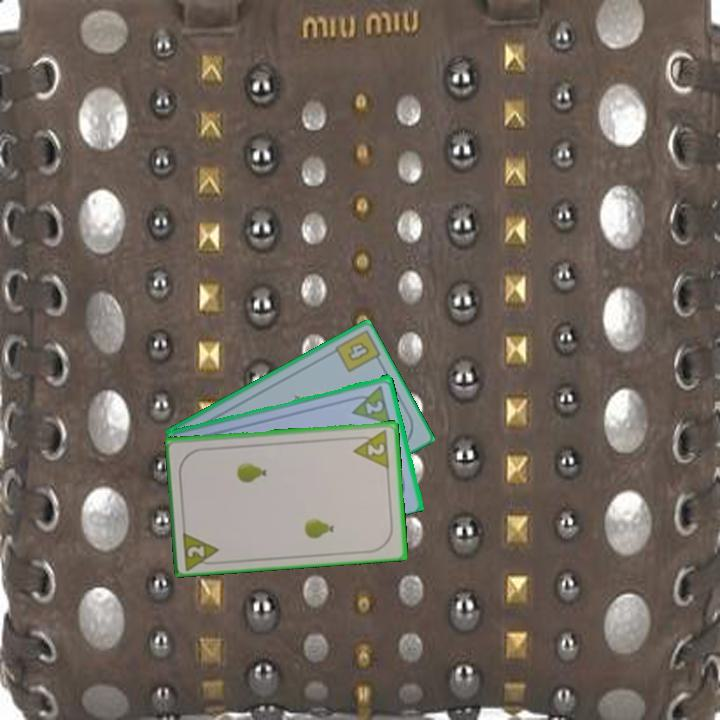2p: (179, 526, 223, 571), (349, 426, 392, 470), (362, 396, 386, 417)
4b: (344, 338, 373, 364)
